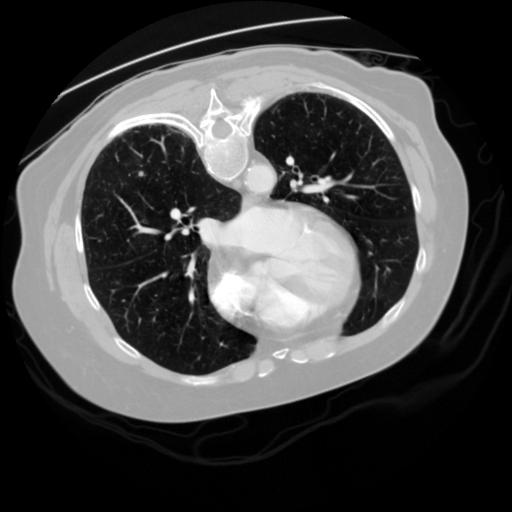nodule: (133, 169, 146, 182)
